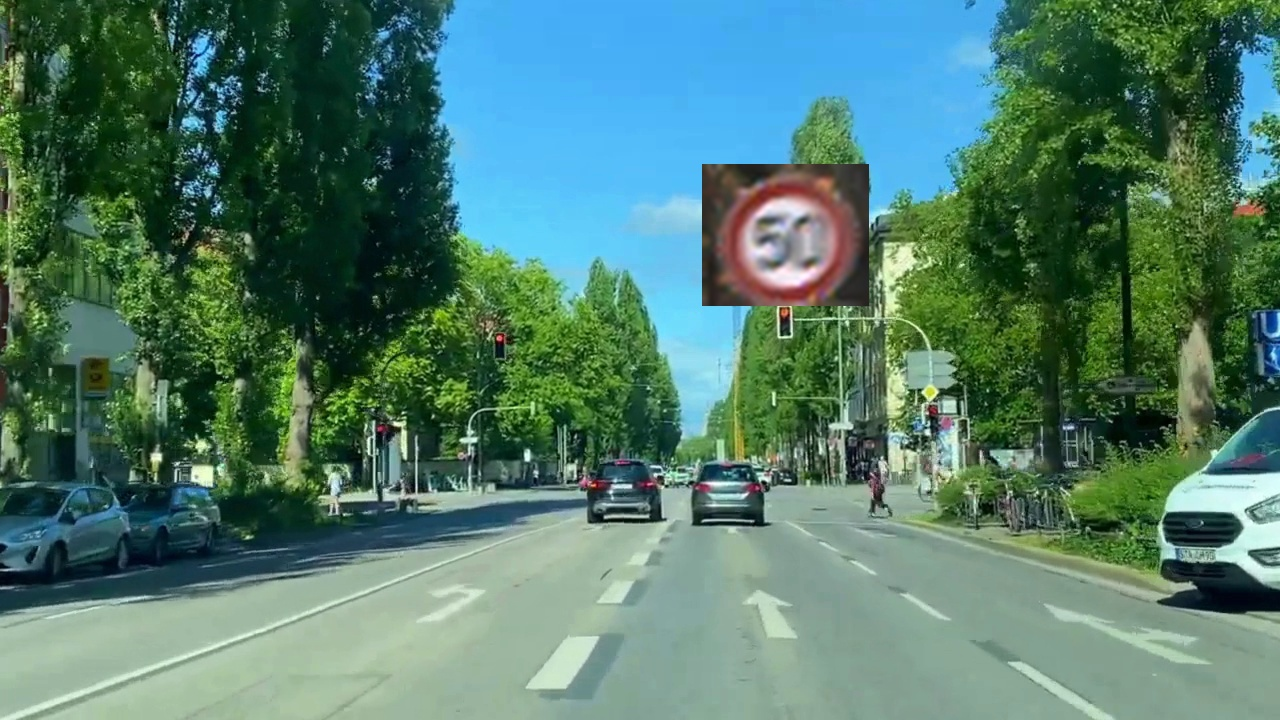Speed 50: (702, 164, 869, 306)
